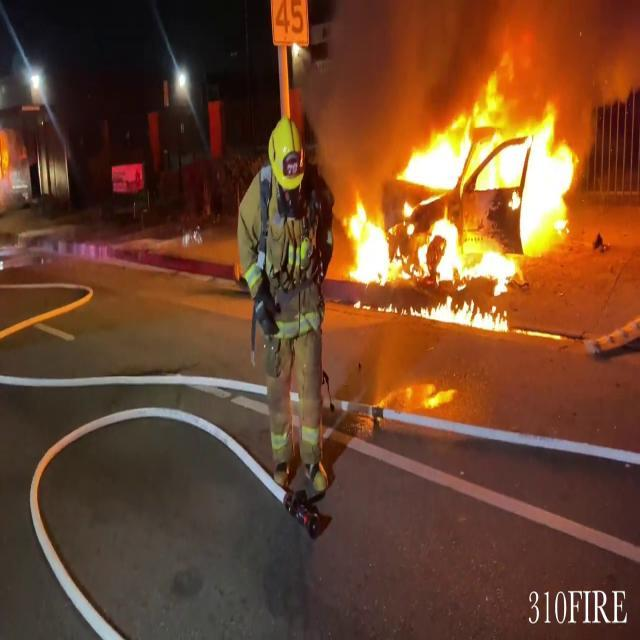Fire: (338, 57, 588, 330)
